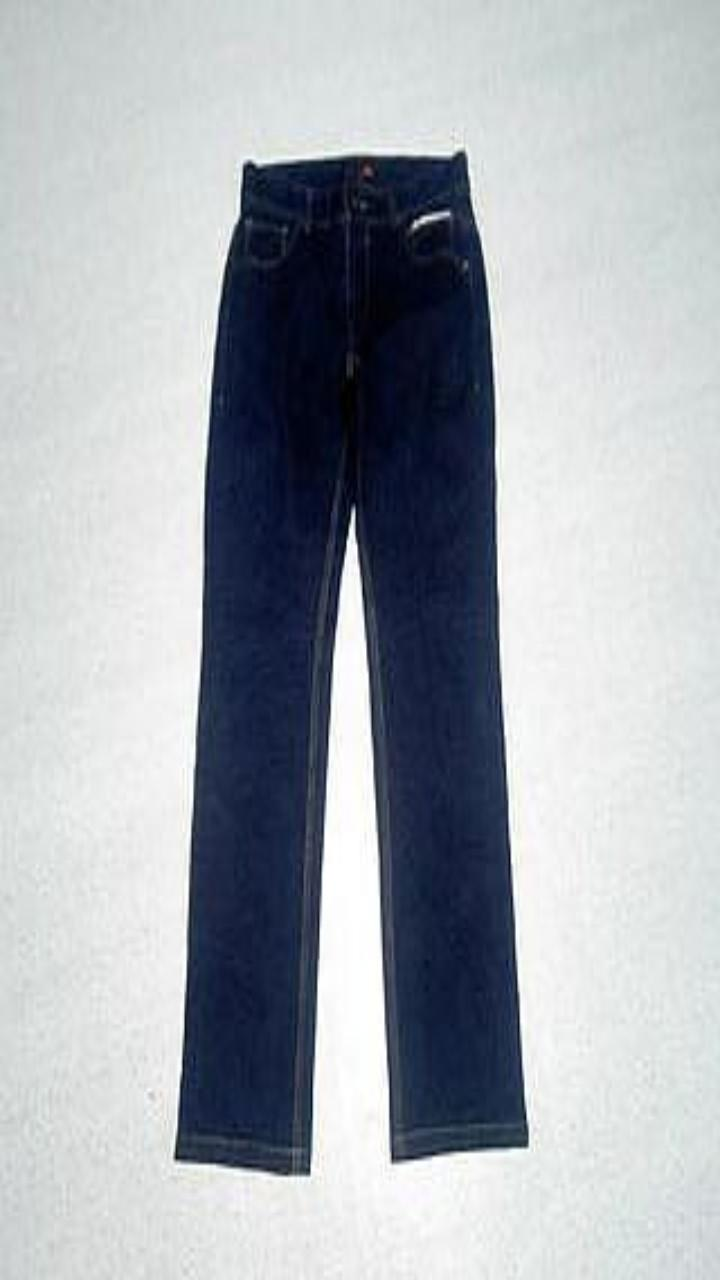Jeans: (175, 150, 527, 1173)
